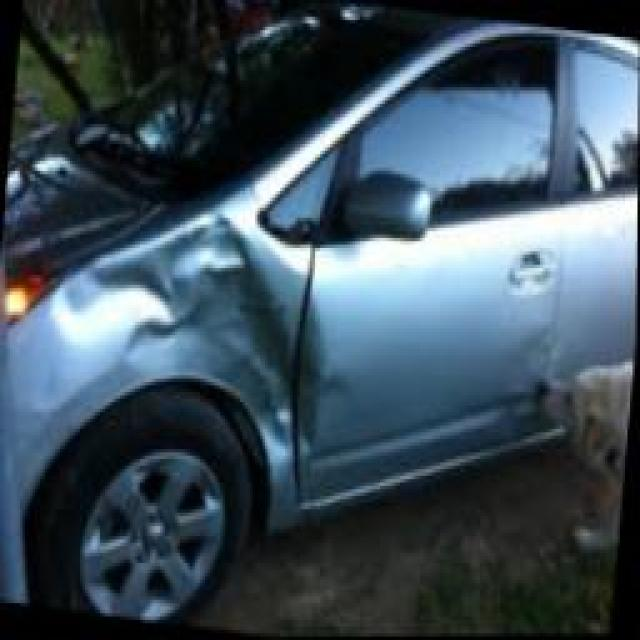Door: (475, 321, 572, 439)
Fender: (21, 193, 314, 520)
